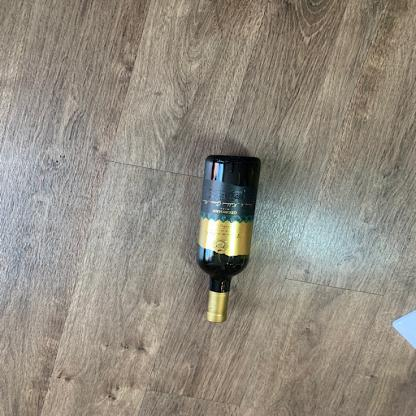trash: (196, 155, 262, 326)
